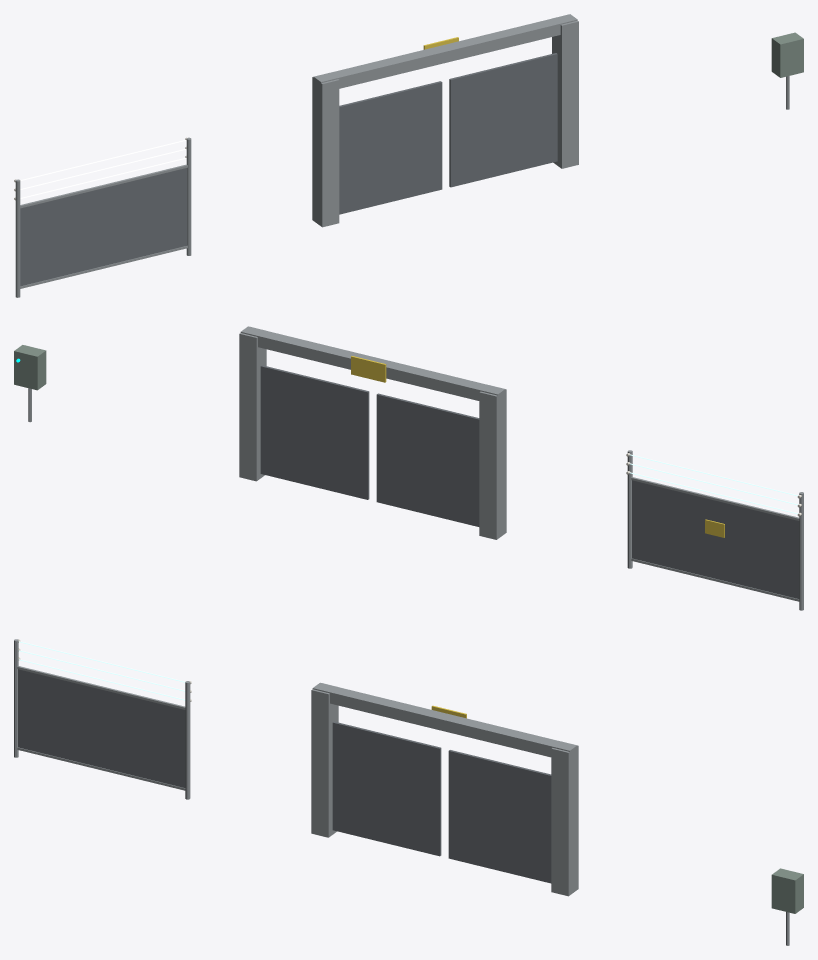
Rendered from electric_fence_set.glb.
3 views of the same model, one above another, from view 1: azimuth 30°, elevation 25°; view 2: azimuth 150°, elevation 25°; view 3: azimuth 330°, elevation 25° (orthographic).
Parts seen in each view (by area): view 1: Mesh_4m, GateDoor_R, GateDoor_L, GateGantry, GatePillar_L, GatePillar_R, PowerBoxCabinet, Post_L, Rail_Top, Post_R, Rail_Bottom; view 2: Mesh_4m, GateDoor_R, GateDoor_L, GateGantry, GatePillar_L, GatePillar_R, PowerBoxCabinet, GateWarningSign, Rail_Top, Post_R, Post_L, Rail_Bottom; view 3: Mesh_4m, GateDoor_L, GateDoor_R, GateGantry, GatePillar_R, GatePillar_L, PowerBoxCabinet, Post_R, Rail_Top, Rail_Bottom.
Boxes of the visible parts, bbox=[...] form: Mesh_4m: bbox=[20, 168, 187, 286]; GateDoor_R: bbox=[449, 53, 557, 187]; GateDoor_L: bbox=[339, 81, 442, 214]; GateGantry: bbox=[313, 14, 577, 92]; GatePillar_L: bbox=[312, 76, 339, 227]; GatePillar_R: bbox=[552, 17, 578, 168]; PowerBoxCabinet: bbox=[771, 32, 803, 77]; Post_L: bbox=[15, 179, 20, 297]; Rail_Top: bbox=[20, 164, 187, 208]; Post_R: bbox=[186, 137, 191, 255]; Rail_Bottom: bbox=[20, 245, 187, 288]; Mesh_4m: bbox=[632, 480, 799, 598]; GateDoor_R: bbox=[260, 365, 369, 499]; GateDoor_L: bbox=[376, 393, 479, 526]; GateGantry: bbox=[240, 326, 505, 403]; GatePillar_L: bbox=[479, 389, 506, 539]; GatePillar_R: bbox=[239, 329, 266, 481]; PowerBoxCabinet: bbox=[14, 345, 46, 390]; GateWarningSign: bbox=[351, 356, 386, 382]; Rail_Top: bbox=[631, 477, 799, 520]; Post_R: bbox=[627, 450, 632, 568]; Post_L: bbox=[799, 492, 803, 610]; Rail_Bottom: bbox=[631, 558, 799, 601]; Mesh_4m: bbox=[18, 669, 185, 787]; GateDoor_L: bbox=[332, 721, 441, 856]; GateDoor_R: bbox=[448, 750, 551, 883]; GateGantry: bbox=[312, 682, 577, 761]; GatePillar_R: bbox=[551, 745, 578, 896]; GatePillar_L: bbox=[311, 689, 338, 837]; PowerBoxCabinet: bbox=[771, 868, 803, 913]; Post_R: bbox=[185, 681, 190, 799]; Rail_Top: bbox=[17, 666, 185, 709]; Rail_Bottom: bbox=[17, 747, 185, 790].
Size of the model in its own units: 18.33 by 3.3 by 0.425.
